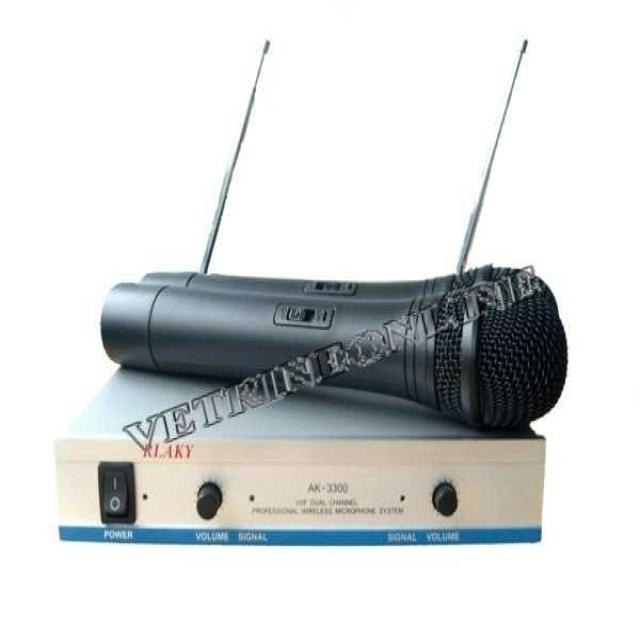microphone: (100, 264, 561, 429), (129, 254, 565, 290)
